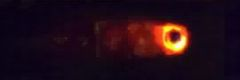keyhole: (166, 28, 184, 46)
